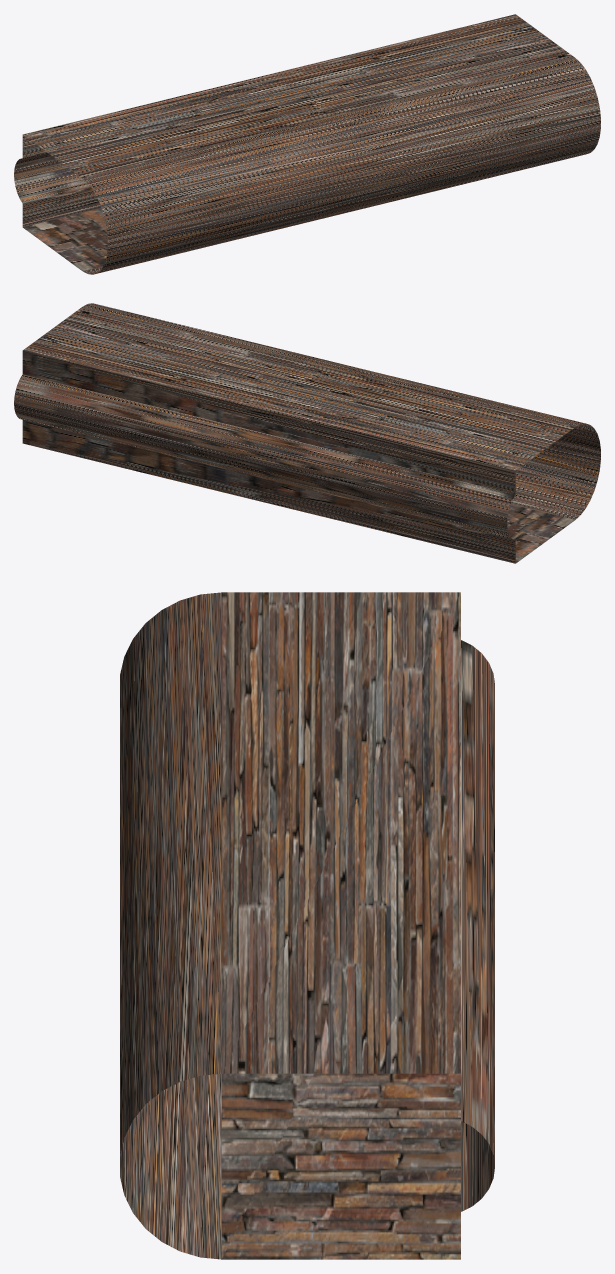
Rendered from T130_straight_5m_dark_brick.dae.
The picture shows the model from 3 angles, top to bottom: view 1: azimuth 30°, elevation 25°; view 2: azimuth 150°, elevation 25°; view 3: azimuth 270°, elevation 25°; orthographic projection. The views are drawn at different scales.
Parts seen in each view (by area): view 1: node; view 2: node; view 3: node.
Boxes of the visible parts, x1=… form: node: x1=14, y1=14, x2=600, y2=274; node: x1=14, y1=303, x2=600, y2=563; node: x1=120, y1=592, x2=494, y2=1259.
Bounding box in the file's own units: 5 × 0.9 × 1.65.
